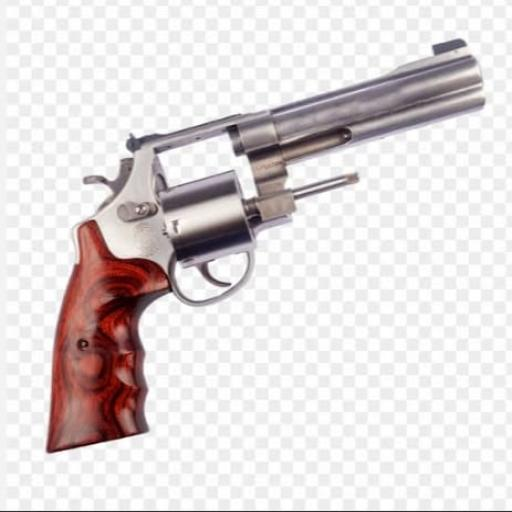Gun: (48, 39, 483, 450)
